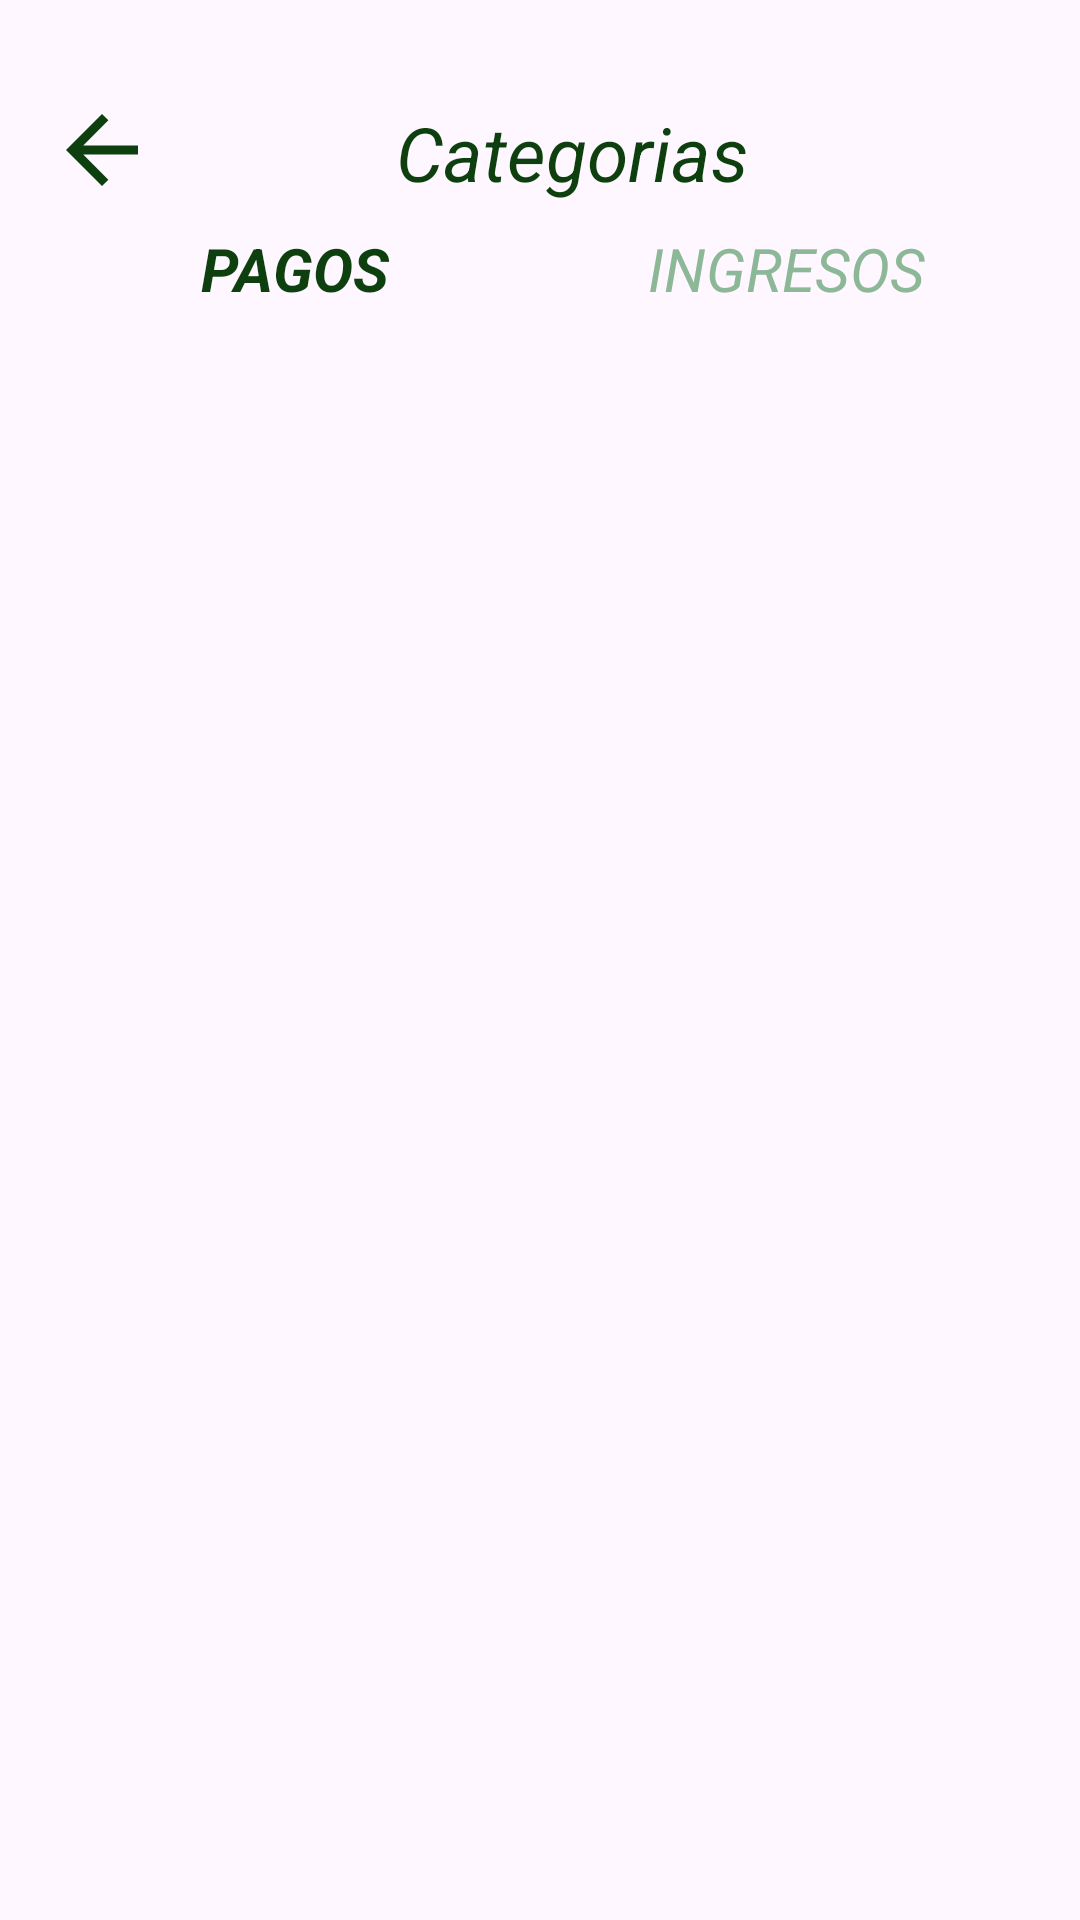

Named icons in this screenshot (1080 x 1920) and their bounding boxes, (x1, y1, x2, y2):
arrow back: (66, 114, 138, 186)
